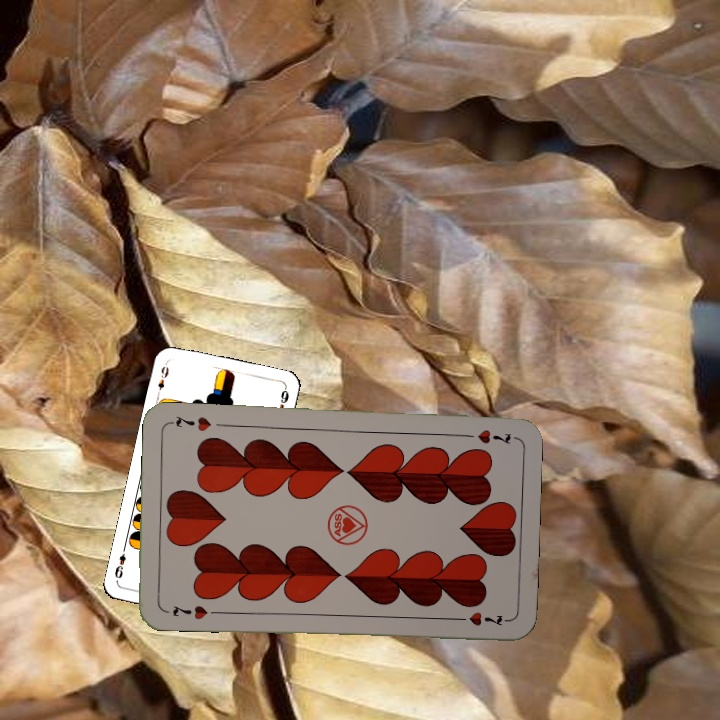E9: (153, 358, 171, 398)
H7: (457, 425, 516, 447), (169, 601, 210, 622)
